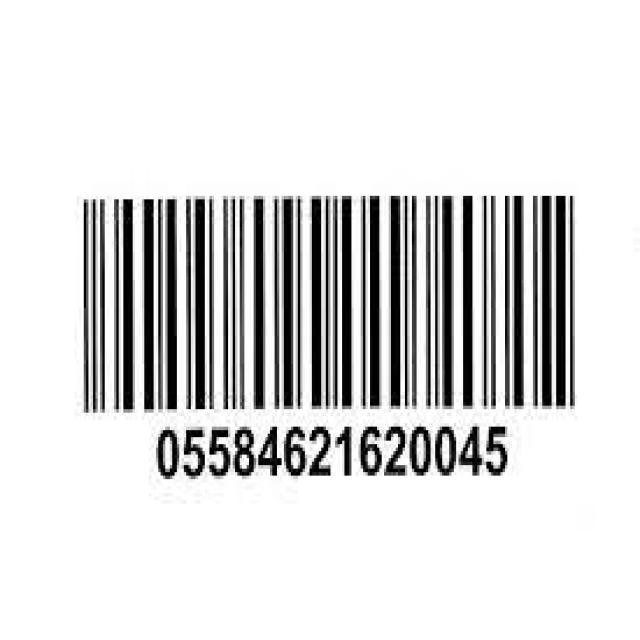Barkod: (71, 178, 581, 500)
